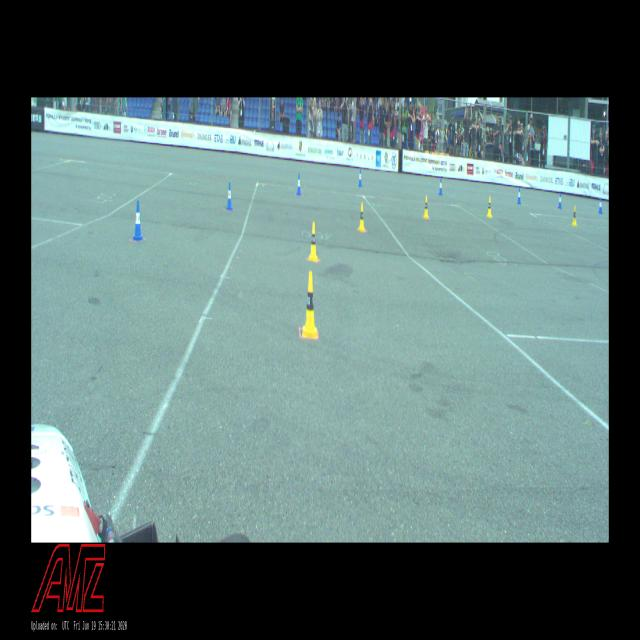blue_cone: (131, 200, 144, 241), (226, 182, 233, 210), (296, 173, 301, 195), (598, 198, 603, 214), (438, 178, 442, 196), (358, 168, 362, 186), (558, 192, 562, 209), (517, 188, 521, 204)
yellow_cone: (302, 271, 318, 338), (308, 222, 319, 261), (357, 202, 366, 232), (422, 196, 429, 219), (486, 196, 492, 218), (571, 206, 577, 226)
